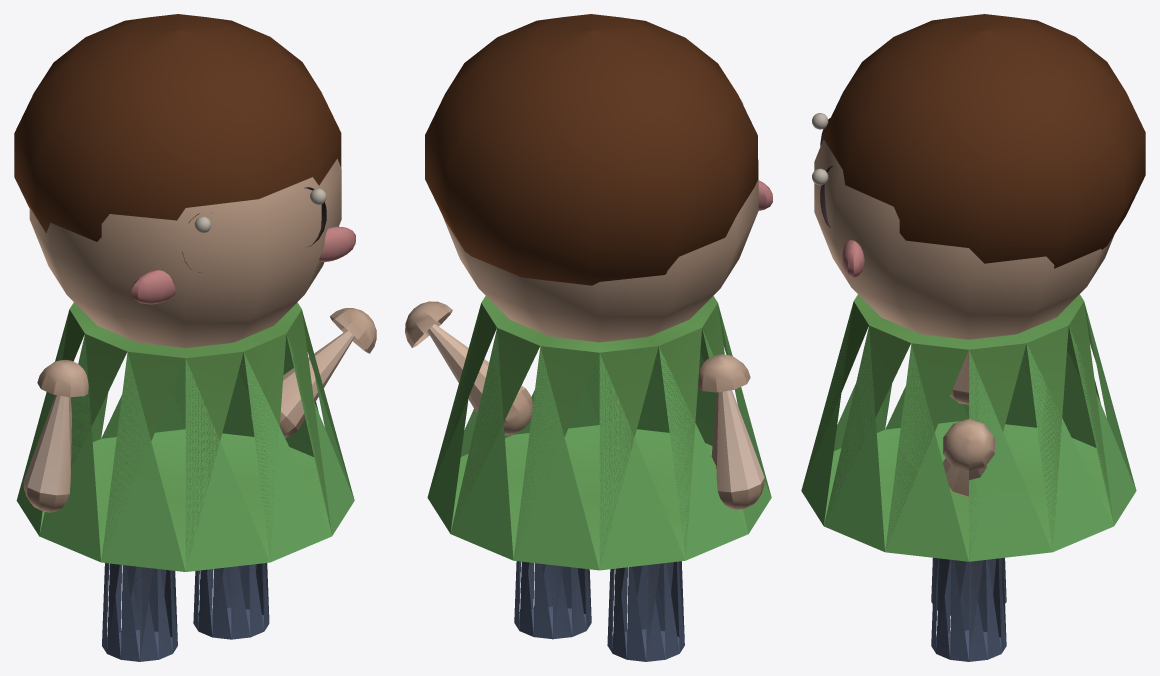
3 views of the same model, side by side, from view 1: azimuth 30°, elevation 25°; view 2: azimuth 150°, elevation 25°; view 3: azimuth 270°, elevation 25° (orthographic). The views are drawn at different scales.
Visible parts, largest first — view 1: pet_p60585c21; view 2: pet_p60585c21; view 3: pet_p60585c21.
Part boxes in pixels (x1,y1,x2,y2): pet_p60585c21: [14, 14, 376, 661]; pet_p60585c21: [405, 14, 772, 661]; pet_p60585c21: [801, 14, 1145, 661].
Size of the model in its own units: 0.3783 by 0.625 by 0.3287.
